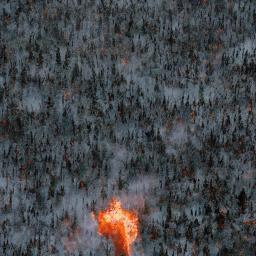Small fire: (90, 190, 150, 255)
